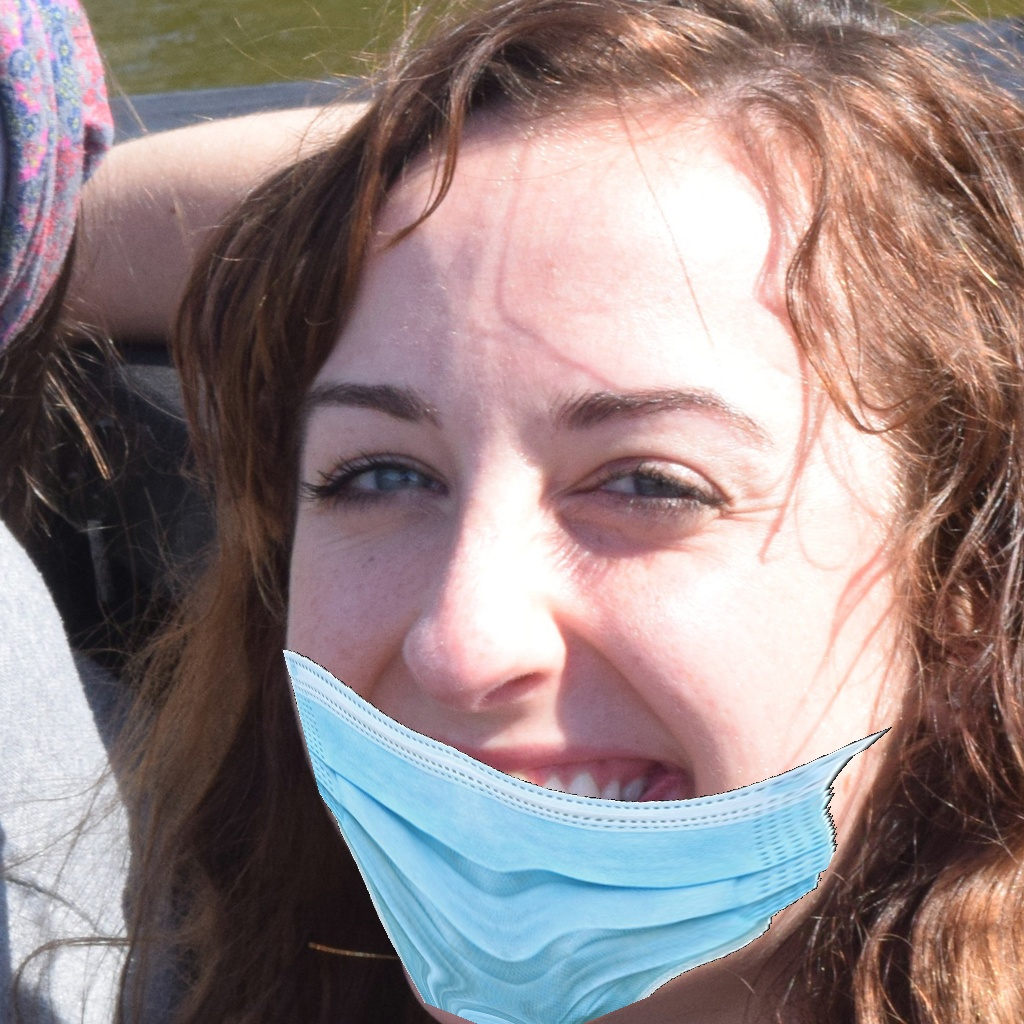mascarilla_mal_puesta: (219, 318, 959, 1024)
